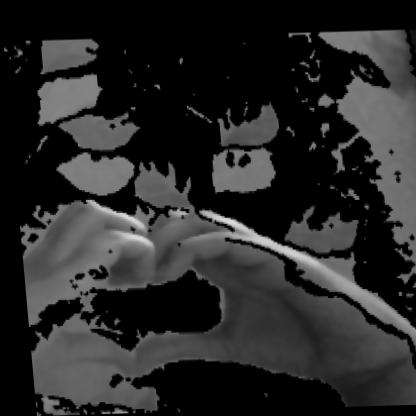heart: (14, 197, 339, 393)
